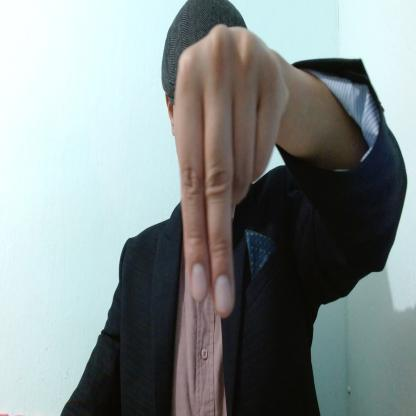N: (176, 26, 285, 316)
